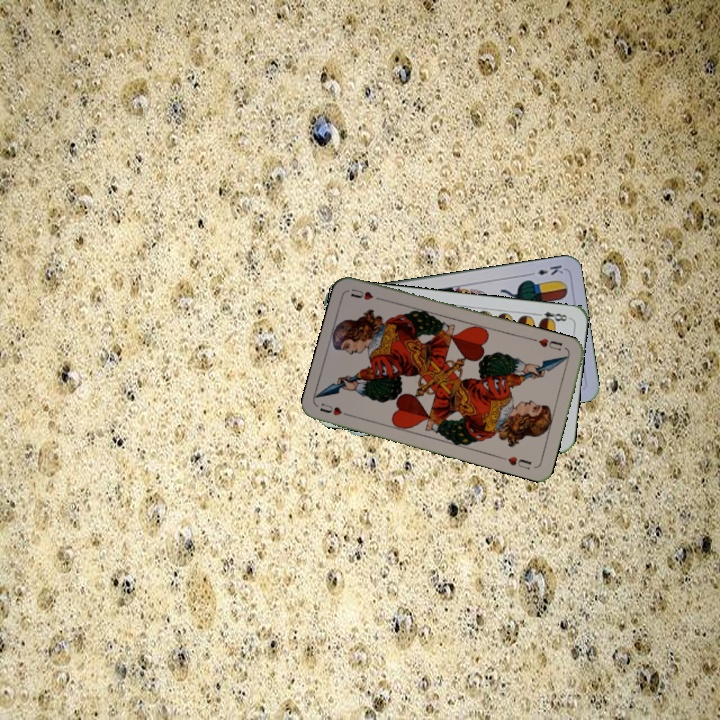E8: (531, 308, 572, 326)
EK: (525, 261, 566, 278)
HU: (316, 399, 355, 420), (529, 334, 565, 353)
